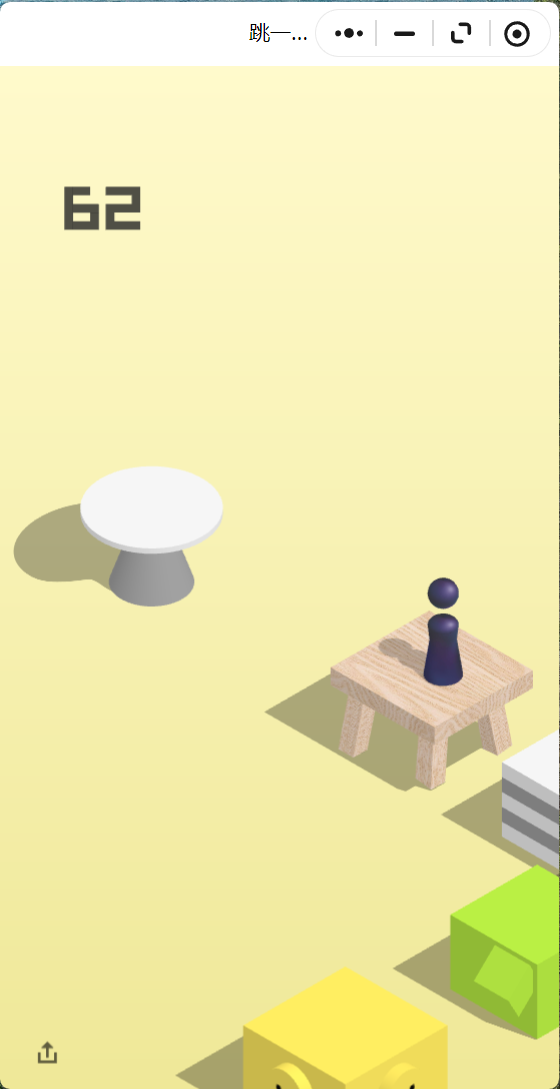piece: (428, 578, 459, 682)
target: (80, 466, 223, 547)
